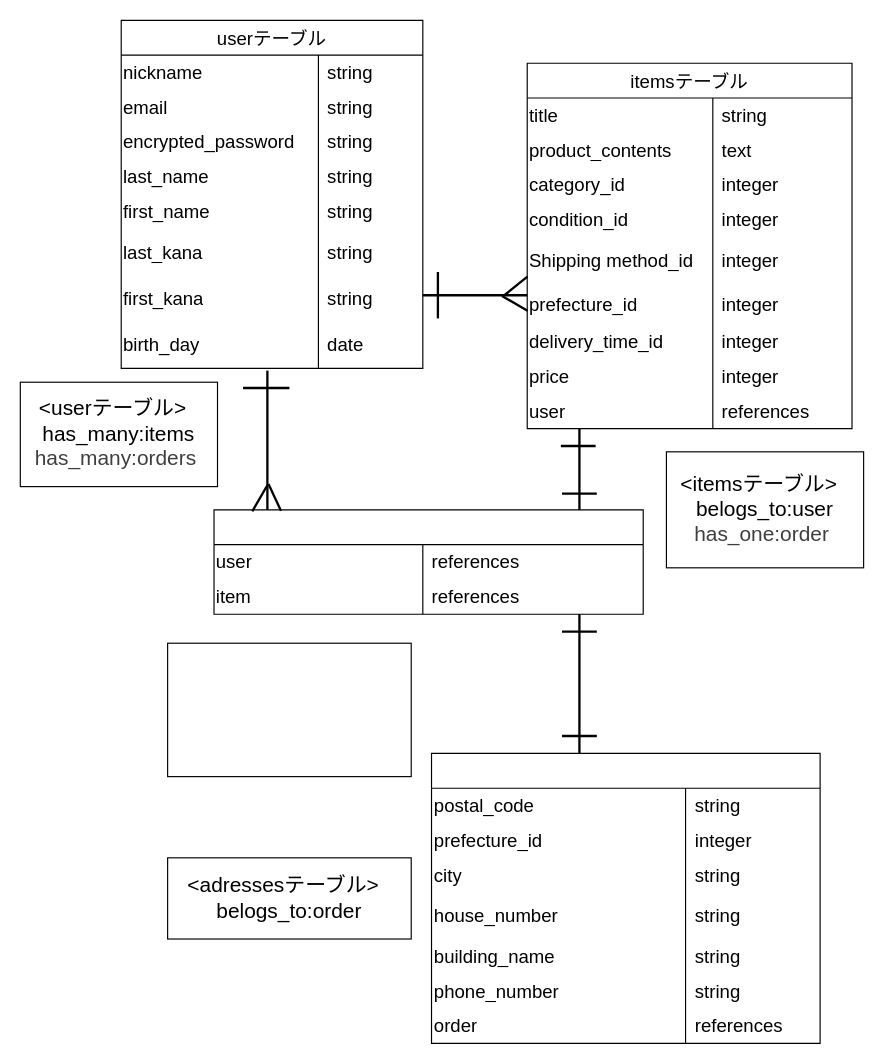
Image size: 884x1064. Some labels were removed from this diagram. The shapes that lost their labels are listed below. From the top down, each one's box as (x1, y1, x2, y2) in pixels, then its label:
(213, 509, 643, 614): ordersテーブル
(166, 642, 411, 777): <orderテーブル> belogs_to:user belongs_to:item has_one:address
(430, 752, 820, 1043): addressesテーブル
